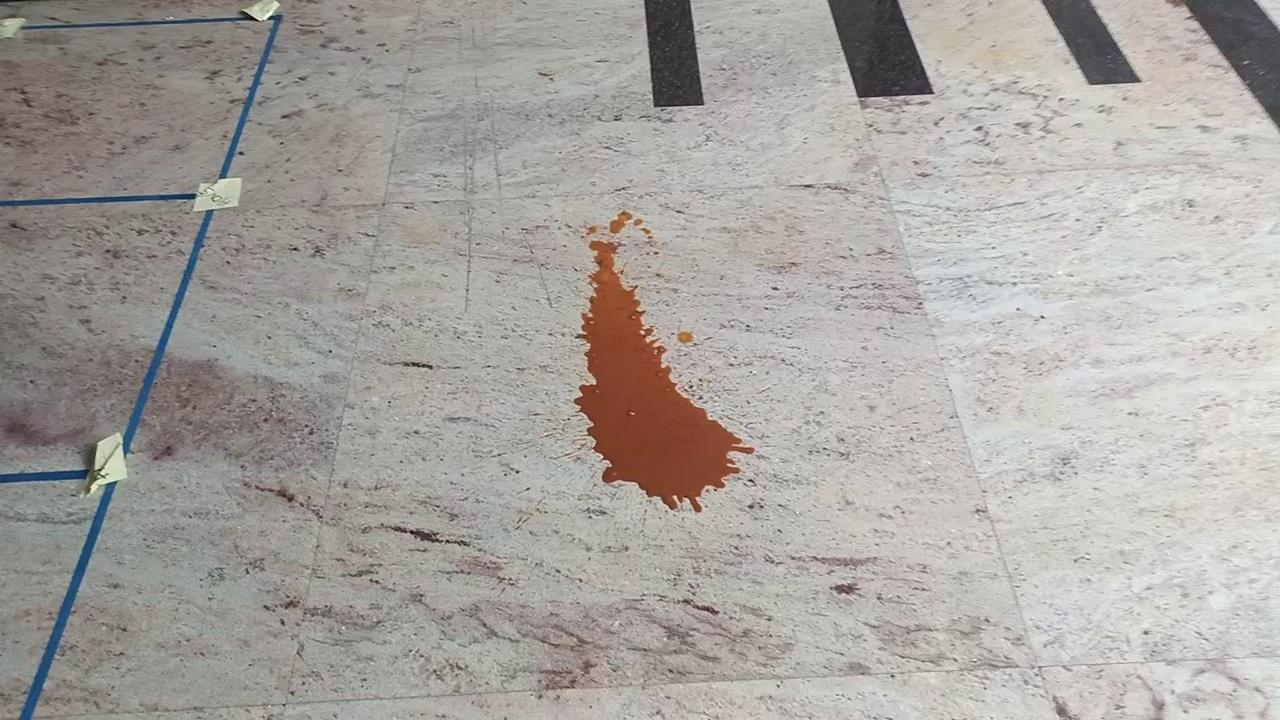dirty_floor: (576, 207, 754, 514)
